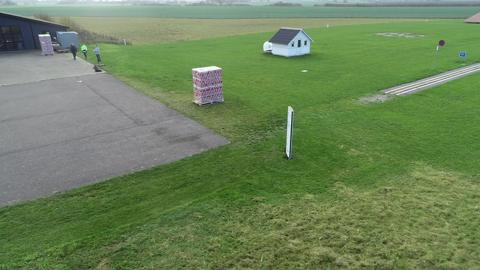RockwoolPallet: (38, 33, 55, 56)
